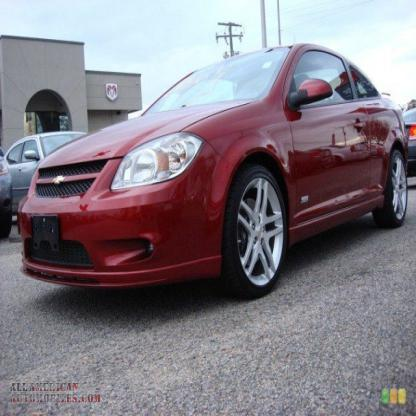car: (19, 46, 408, 302)
